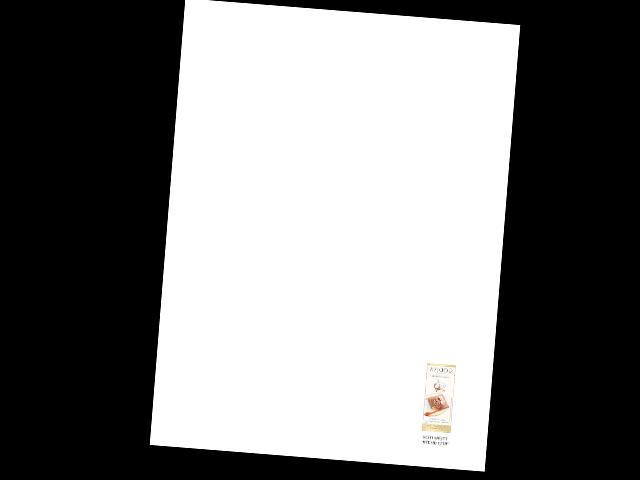chocolate: (419, 361, 455, 435)
